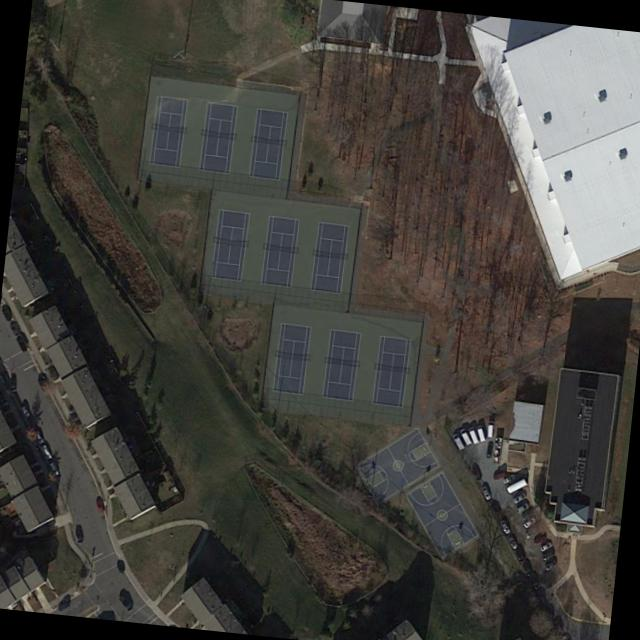large-vehicle: (507, 477, 528, 495), (458, 427, 473, 446), (452, 432, 466, 451), (475, 424, 487, 442), (468, 426, 480, 444), (485, 420, 496, 438)
small-vehicle: (117, 590, 135, 613), (36, 442, 53, 462), (45, 460, 61, 478), (522, 524, 541, 539), (470, 463, 484, 483), (15, 333, 29, 352), (531, 531, 547, 547), (20, 403, 33, 422), (94, 496, 106, 516), (31, 428, 43, 447), (56, 599, 71, 614), (37, 376, 50, 393), (539, 539, 554, 553), (498, 519, 511, 535), (9, 317, 21, 334), (1, 303, 13, 320), (516, 500, 530, 514), (513, 491, 527, 505), (489, 501, 502, 516), (73, 528, 85, 544), (523, 515, 536, 529), (506, 535, 518, 550), (502, 472, 516, 484), (480, 486, 492, 500), (494, 470, 507, 482), (484, 443, 494, 458), (541, 549, 554, 560)
